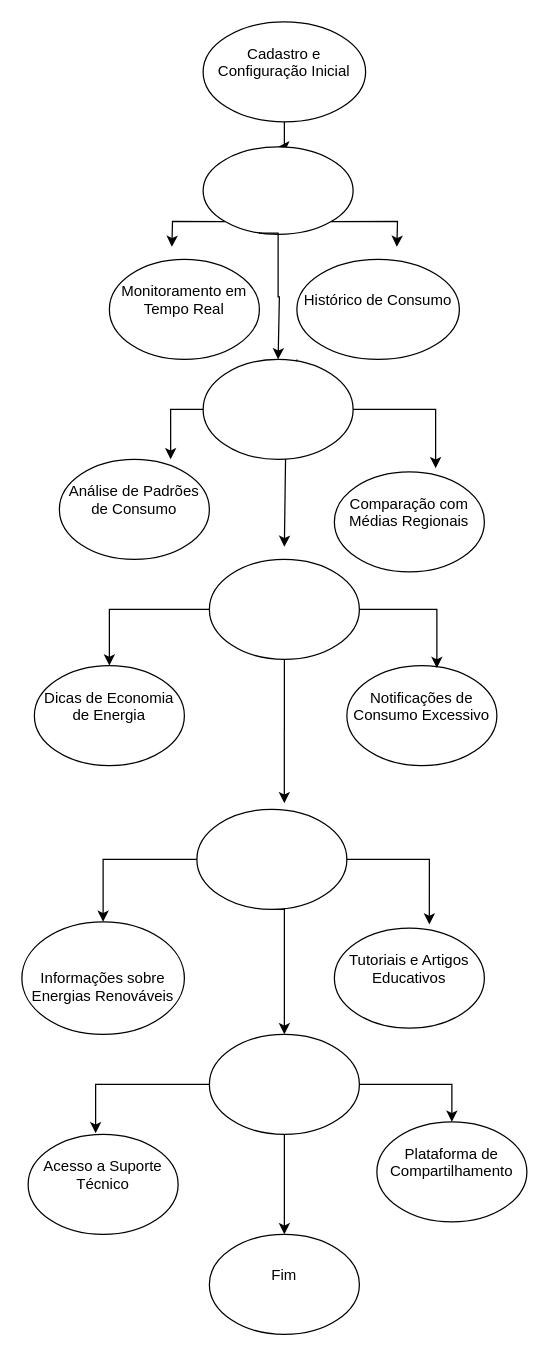
Some shapes in this 549 by 1356 pixel diagram are drawn without their labels. Each missing label, with the centre of its shape:
"Análise de Dados" goes at [277,408].
"Educação e Conscientização" goes at [271,858].
"Monitoramento de Consumo de Energia" goes at [277,190].
"Recomendações e Alertas" goes at [283,608].
"Suporte e Comunidade" goes at [283,1083].
